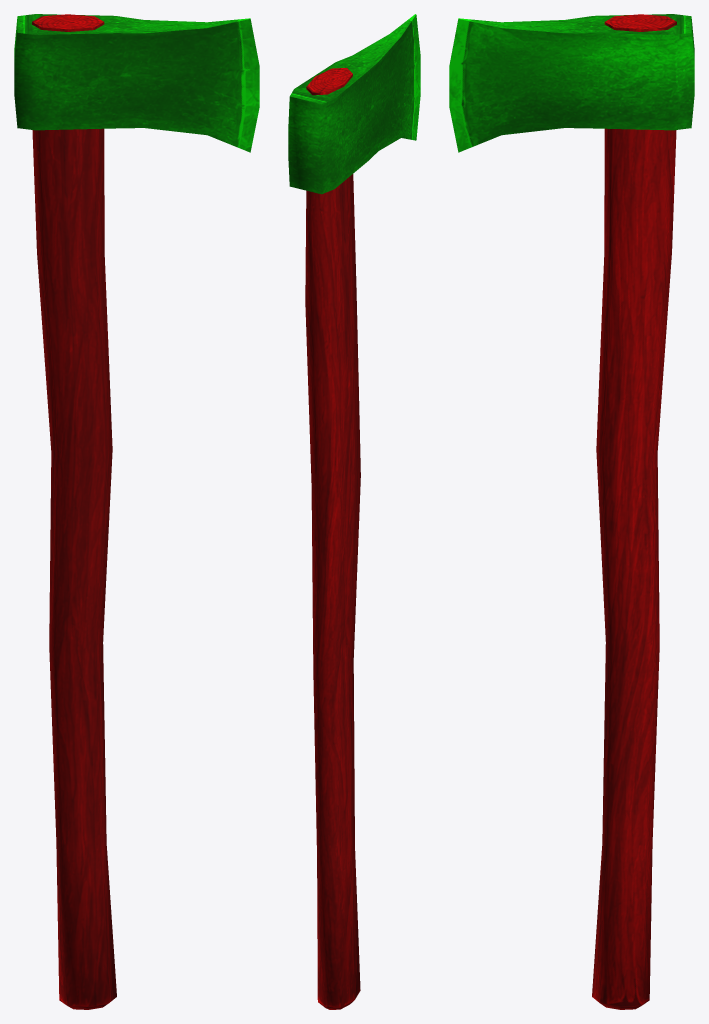
Rendered from Axe01.fbx.
3 renders of one model, left to right at view 1: azimuth 90°, elevation 25°; view 2: azimuth 150°, elevation 25°; view 3: azimuth 270°, elevation 25°, orthographic. The views are drawn at different scales.
Visible parts, largest first — view 1: Axe01_LOD0; view 2: Axe01_LOD0; view 3: Axe01_LOD0.
Boxes of the visible parts, box(x1,y1,x2,y2) form: Axe01_LOD0: box(14, 14, 259, 1009); Axe01_LOD0: box(288, 14, 420, 1009); Axe01_LOD0: box(449, 14, 694, 1009).
Size of what is drawn, in the model's own units: 0.0394 by 0.8647 by 0.1941.
